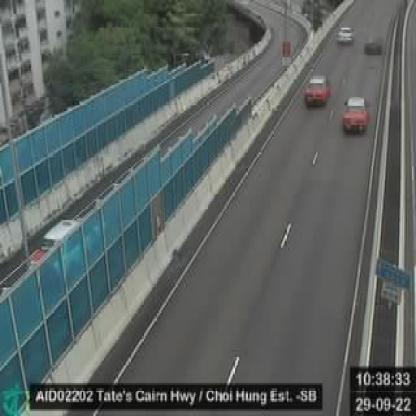Car: (334, 88, 374, 134), (300, 70, 334, 110), (360, 30, 385, 62), (337, 21, 359, 45)
